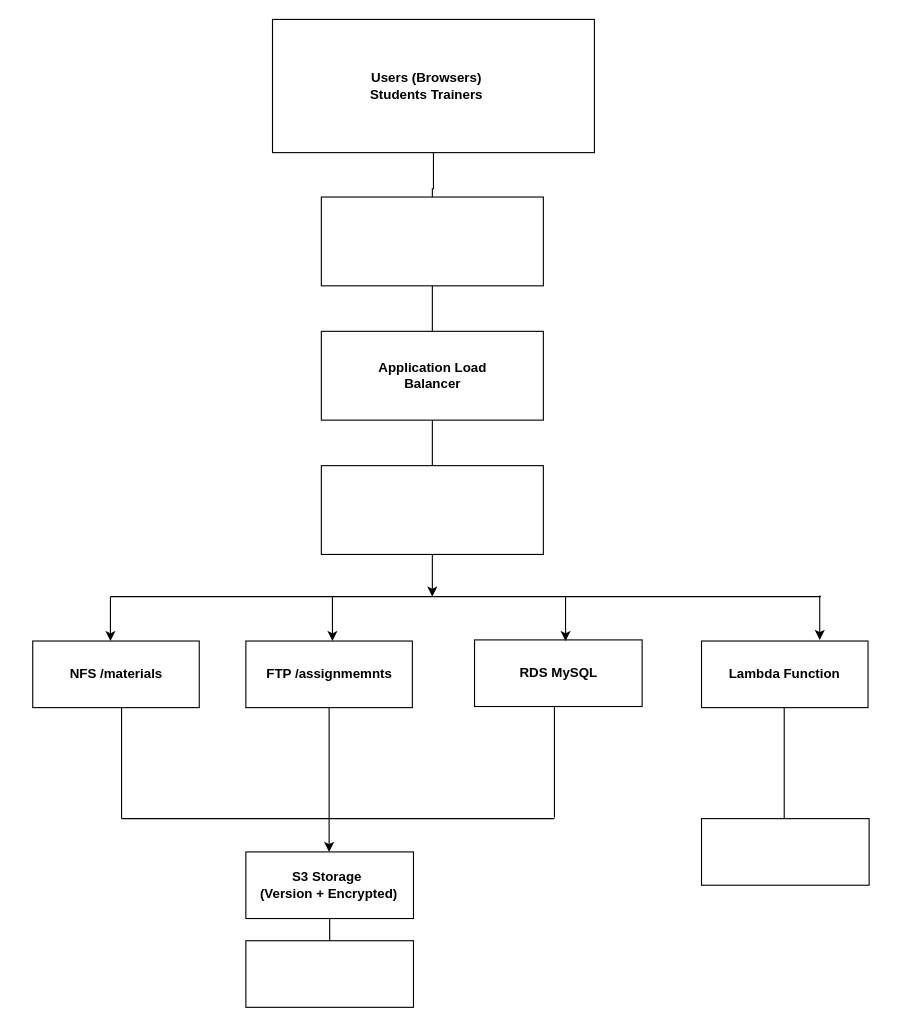
This 901x1027 diagram has some shape labels left out. The shapes that lost their labels are listed below. From the top down, each one's centre as x and y in pixels, then its label:
pixel 431 241: Cloud Front CDN Layer
pixel 431 509: Auto Scaling Groups
pixel 784 851: SNS Email
pixel 329 973: Glacier Archive
